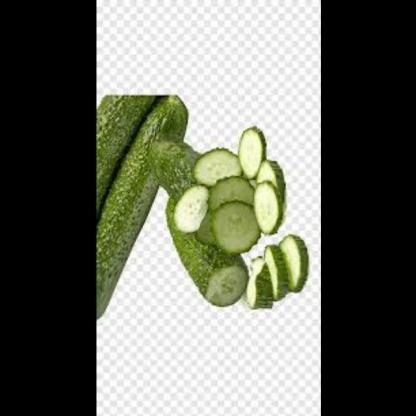cucumber: (95, 89, 186, 326), (160, 195, 245, 306), (138, 138, 222, 215), (233, 229, 309, 303), (248, 162, 291, 231), (230, 128, 268, 180)
